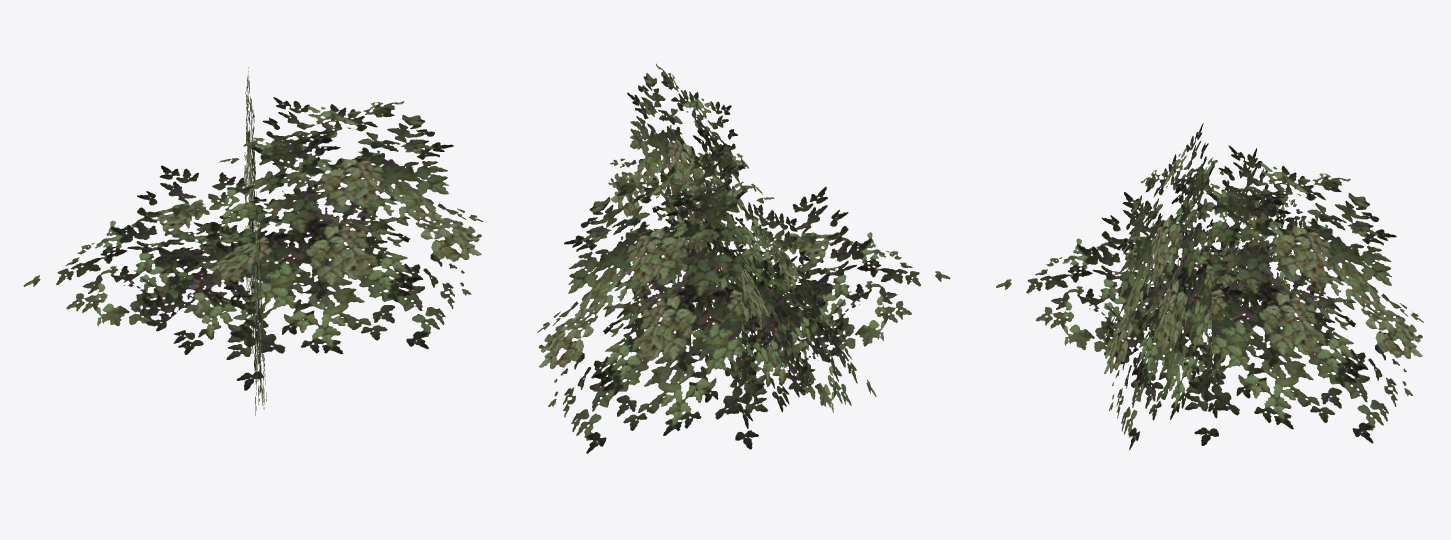
The model's file is decd_saplingclump_lg_l4.fbx.
3 views of the same model, side by side, from view 1: azimuth 30°, elevation 25°; view 2: azimuth 150°, elevation 25°; view 3: azimuth 270°, elevation 25° (orthographic). The views are drawn at different scales.
Visible parts, largest first — view 1: mesh_node; view 2: mesh_node; view 3: mesh_node.
Part boxes in pixels (left/top/right/bottom): mesh_node: left=23, top=67, right=483, bottom=415; mesh_node: left=537, top=63, right=950, bottom=453; mesh_node: left=996, top=123, right=1423, bottom=450.
Bounding box in the file's own units: 4.58 × 3.91 × 4.58.
